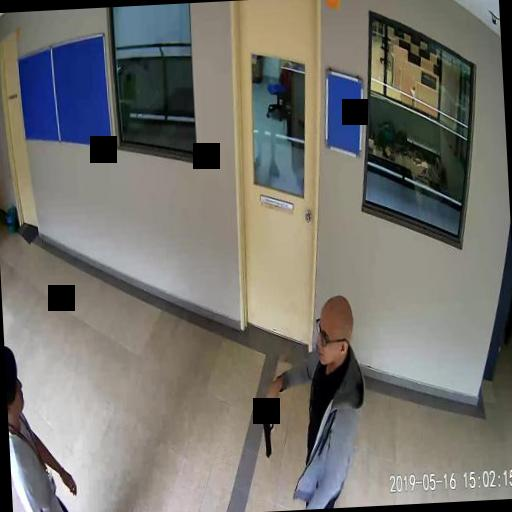Handgun: (260, 389, 282, 457)
